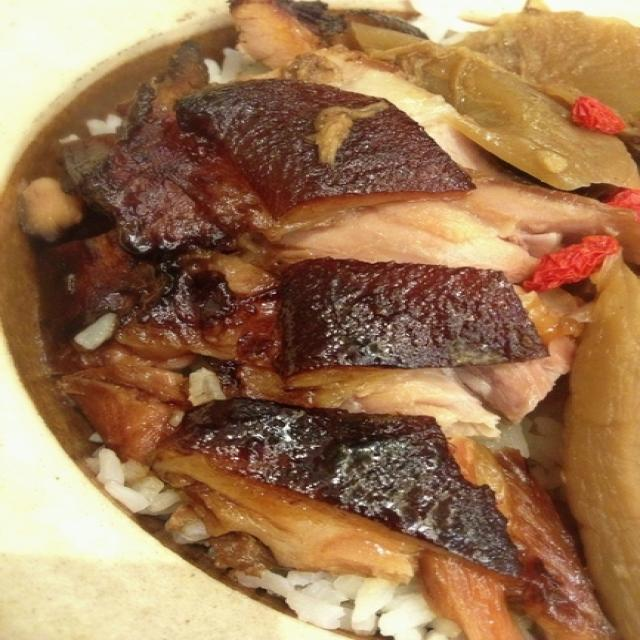猪肉菜式: (19, 21, 633, 621)
